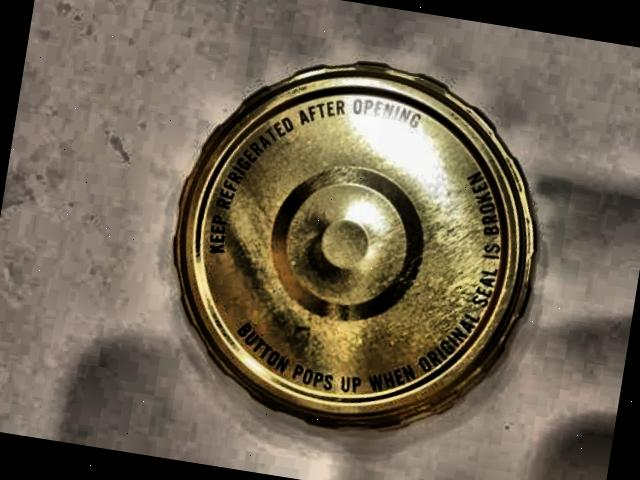Almennt: (116, 20, 582, 480)
